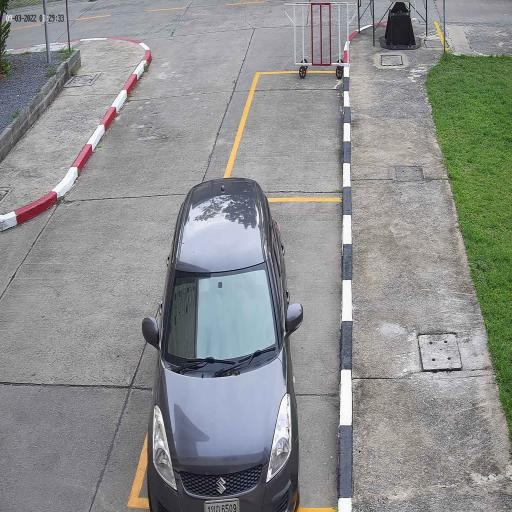car: (146, 174, 301, 512)
